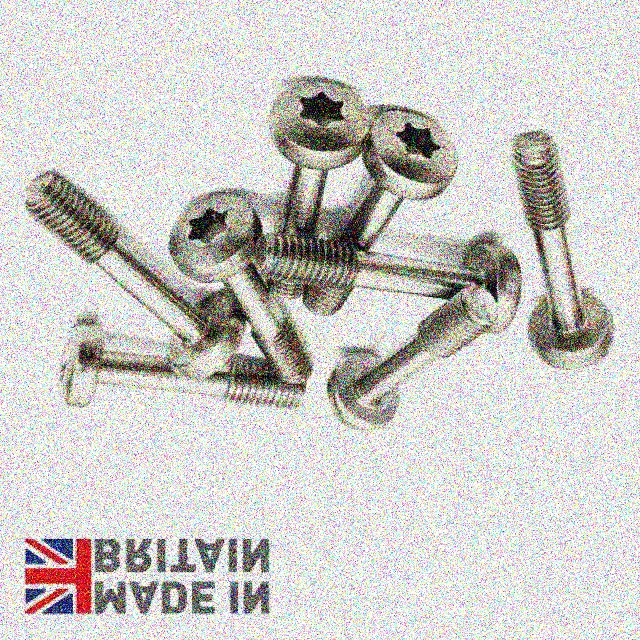torx: (267, 78, 370, 170), (362, 108, 460, 202), (167, 191, 261, 284)
